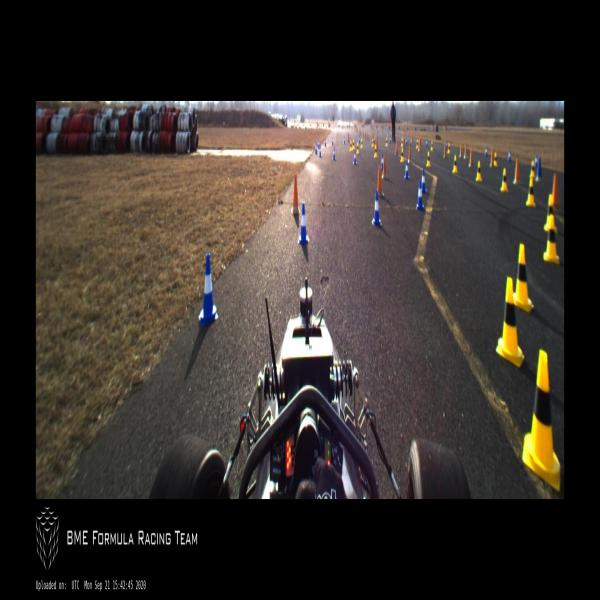blue_cone: (197, 250, 220, 327), (298, 202, 308, 244), (372, 191, 381, 227), (416, 180, 424, 211), (420, 168, 426, 192), (404, 160, 410, 179), (538, 158, 542, 177), (380, 154, 384, 172), (535, 154, 538, 170), (354, 151, 357, 166), (508, 149, 511, 162), (332, 149, 335, 160), (485, 146, 488, 157), (319, 146, 321, 157), (315, 142, 317, 153), (318, 139, 320, 148), (332, 136, 334, 145), (406, 137, 408, 146), (373, 135, 375, 144), (446, 141, 448, 150), (324, 139, 326, 147), (344, 136, 346, 144), (426, 139, 428, 147), (390, 136, 391, 144), (359, 136, 360, 144)
unknown_cone: (292, 174, 300, 215), (376, 164, 384, 198), (552, 172, 559, 205), (514, 158, 520, 183), (382, 153, 387, 178), (469, 146, 473, 166), (464, 142, 468, 159), (459, 142, 463, 159), (490, 148, 493, 166), (418, 136, 421, 152), (395, 140, 398, 154), (409, 144, 411, 161), (444, 142, 446, 158), (347, 132, 350, 142), (376, 138, 379, 148), (367, 131, 369, 140), (411, 134, 413, 142)
yellow_cone: (524, 353, 561, 488), (497, 274, 523, 369), (513, 244, 533, 313), (544, 216, 560, 264), (544, 193, 557, 233), (526, 177, 536, 208), (500, 166, 508, 192), (476, 160, 482, 182), (452, 154, 458, 174), (530, 160, 536, 178), (426, 151, 431, 169), (374, 145, 378, 158), (494, 152, 497, 167), (401, 148, 404, 162), (356, 141, 359, 153), (447, 143, 450, 154), (349, 141, 352, 150), (352, 140, 355, 148), (360, 139, 363, 147), (401, 137, 403, 148), (386, 137, 388, 147), (431, 140, 433, 150), (416, 139, 418, 149), (372, 138, 374, 147)
